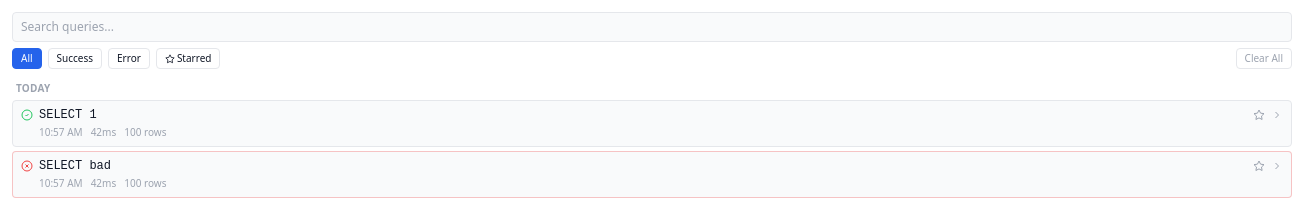
Test: QH-5: Status filter works (All/Success/Error) › returns to showing all queries when All filter is clicked after Error
# Filter to error only
Step 1. Click the button with test id "query-history-filter-error" → click(129, 58), box [108, 48, 150, 69]
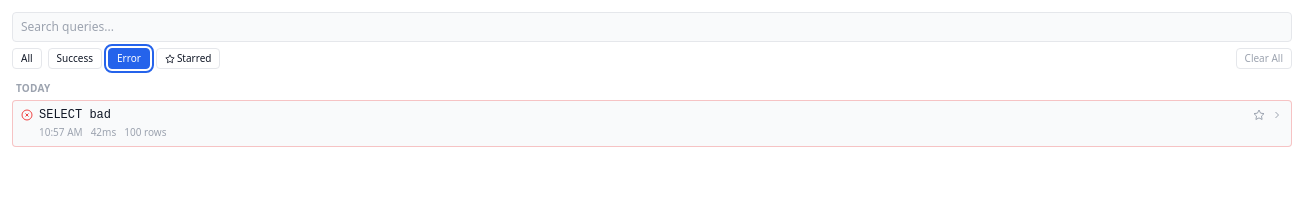
Expected: the number of elements with test id "query-history-entry" is 1, [12, 100, 1292, 147]
# Back to all
Step 2. Click the button with test id "query-history-filter-all" → click(27, 58), box [12, 48, 42, 69]
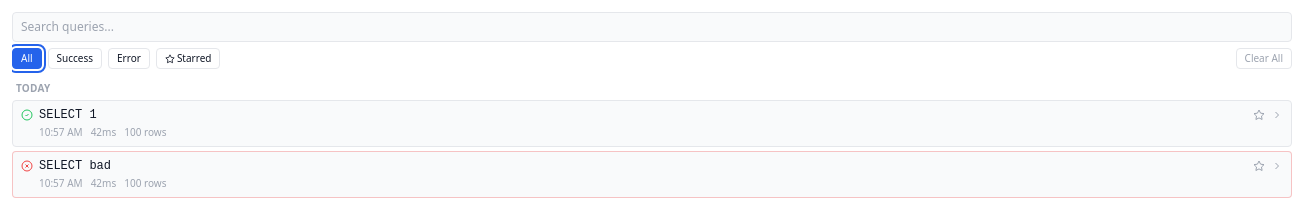
Expected: the number of elements with test id "query-history-entry" is 2, [12, 100, 1292, 147]; [12, 151, 1292, 198]
